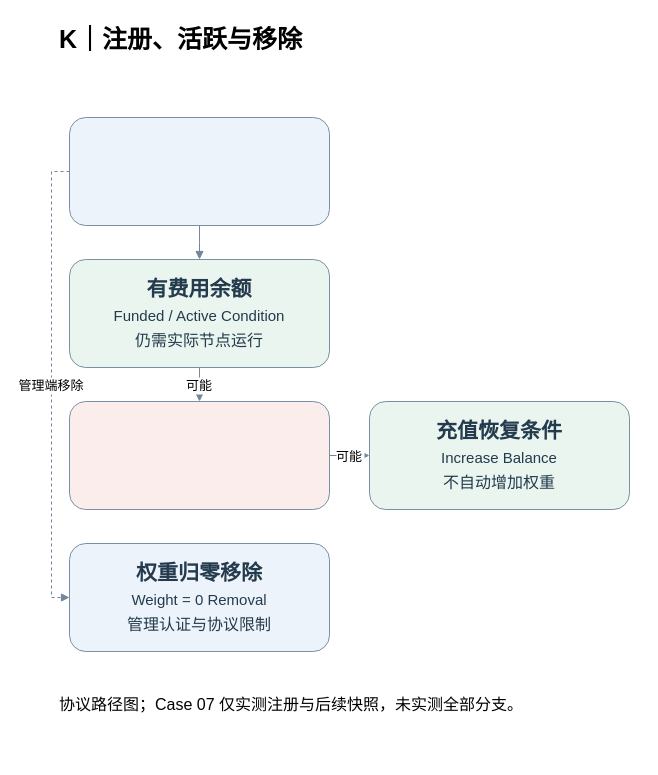
Some shapes in this 658 by 775 pixel diagram are drawn without their labels. Here are the shapes that lost their labels. From the top down, the centre of each, then its label:
point (199, 171): 注册已存在 Registered Validation ID 与权重
point (199, 455): 停用或余额耗尽 Disabled / Exhausted 注册权重仍可能保留
